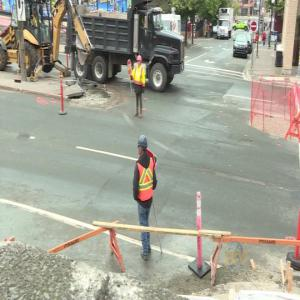blue: (138, 135, 148, 156)
red: (137, 55, 143, 67)
